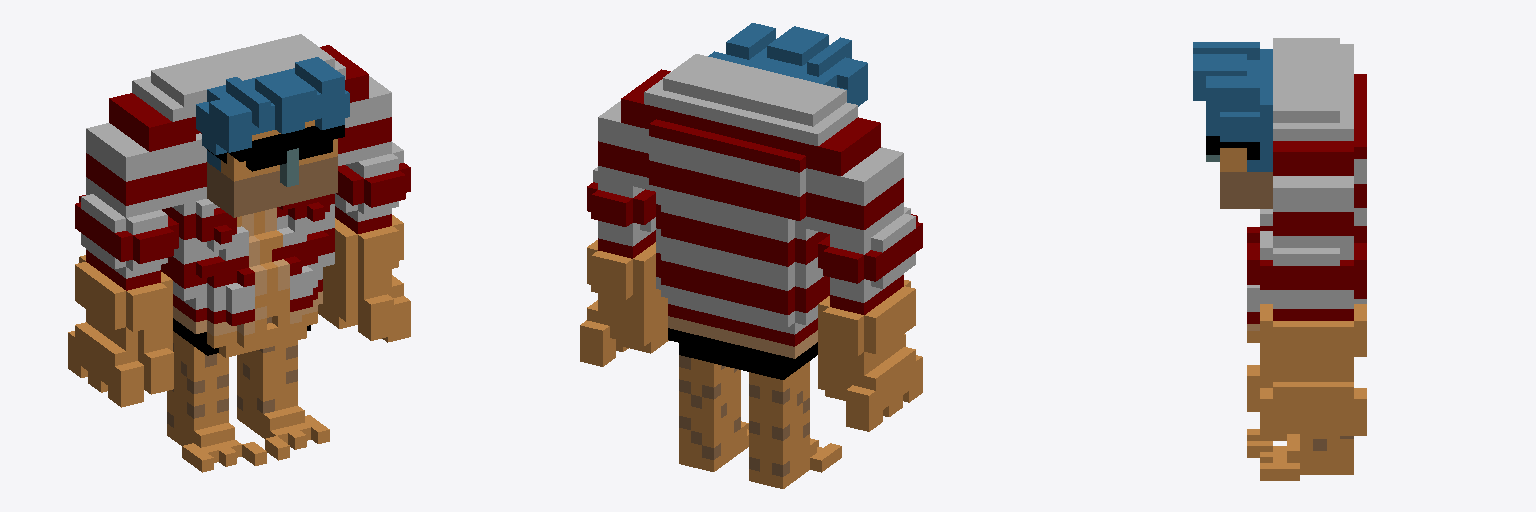
The picture shows the model from 3 angles: view 1: azimuth 30°, elevation 25°; view 2: azimuth 150°, elevation 25°; view 3: azimuth 270°, elevation 25°; orthographic projection.
Visible parts, largest first — view 1: object 1; view 2: object 1; view 3: object 1.
Part boxes in pixels (bbox=[...]): object 1: bbox=[68, 34, 410, 472]; object 1: bbox=[580, 23, 922, 488]; object 1: bbox=[1193, 38, 1366, 480].
Size of the model in its own units: 2.5 by 3.2 by 1.3.
1 materials, 1 textured.